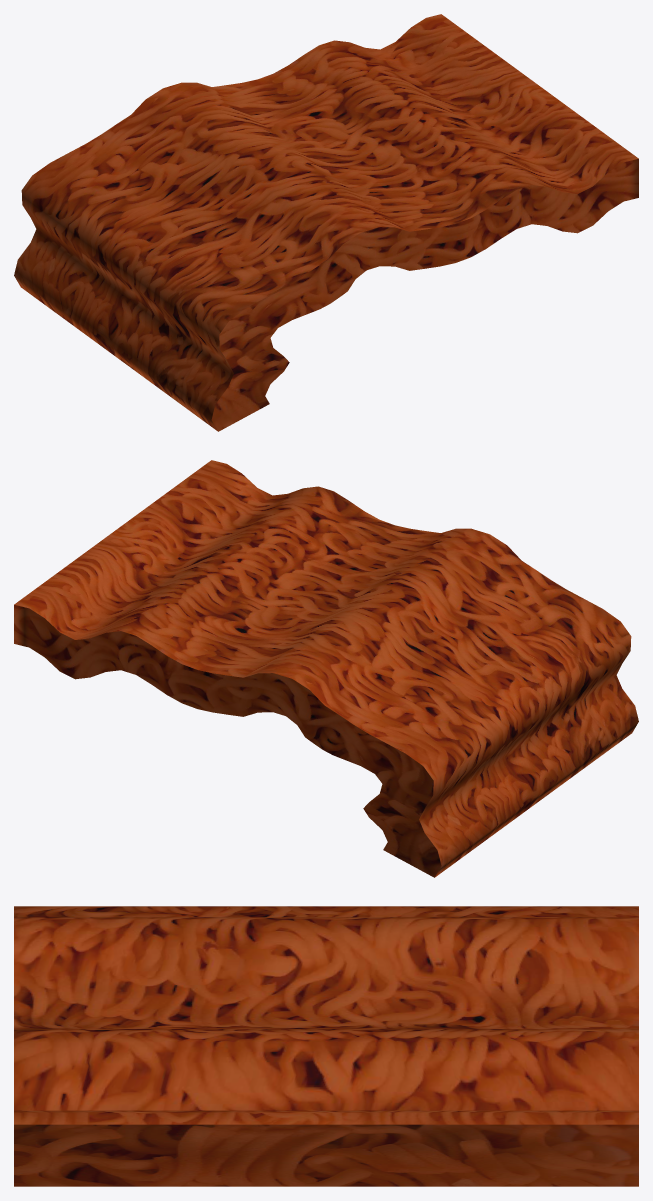
File: Curved Instant Noodles.fbx
The picture shows the model from 3 angles, top to bottom: view 1: azimuth 30°, elevation 25°; view 2: azimuth 150°, elevation 25°; view 3: azimuth 270°, elevation 25°; orthographic projection. The views are drawn at different scales.
Parts seen in each view (by area): view 1: Bended_Instant_Noodle; view 2: Bended_Instant_Noodle; view 3: Bended_Instant_Noodle.
Boxes of the visible parts, left/top/right/bottom form: Bended_Instant_Noodle: left=14, top=14, right=638, bottom=431; Bended_Instant_Noodle: left=14, top=460, right=638, bottom=877; Bended_Instant_Noodle: left=14, top=906, right=638, bottom=1186.
Bounding box in the file's own units: 7.64 × 2.91 × 6.12.
Materials: 1 (1 with a texture image).
